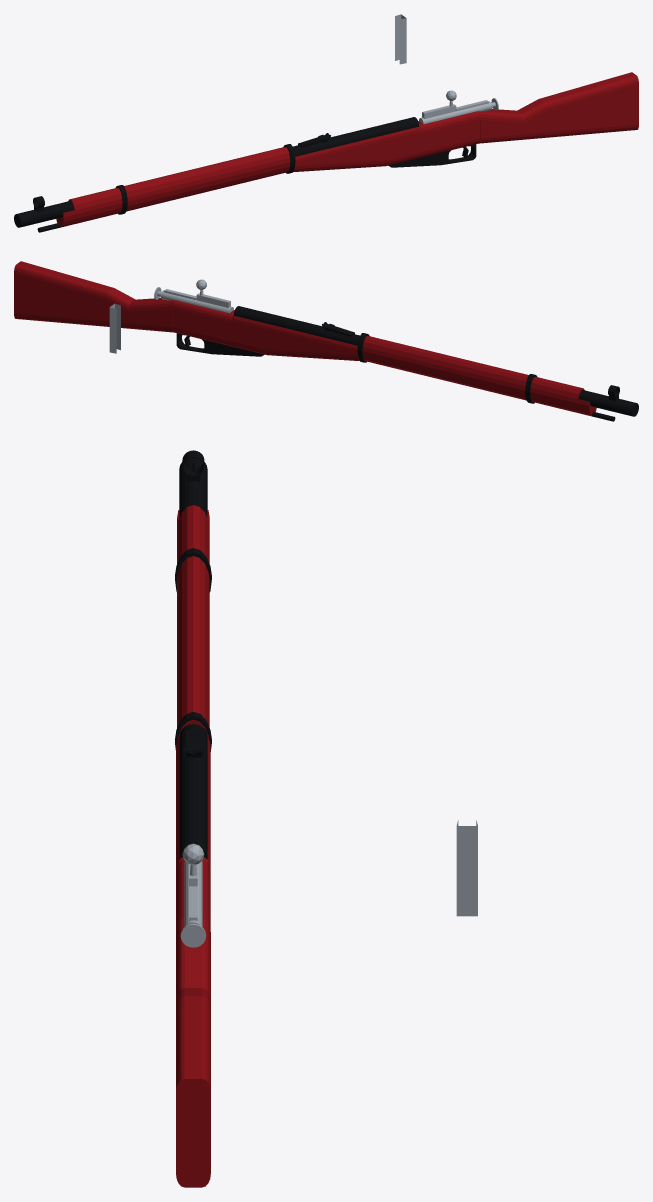
Rendered from mosin-nagant0049.obj.
3 renders of one model, top to bottom at view 1: azimuth 30°, elevation 25°; view 2: azimuth 150°, elevation 25°; view 3: azimuth 270°, elevation 25°, orthographic. The views are drawn at different scales.
Visible parts, largest first — view 1: stock, barrel, triggerGuard, clip, bolt; view 2: stock, barrel, triggerGuard, clip, bolt, boltLocker; view 3: stock, barrel, clip.
Part boxes in pixels (left/top/right/bottom): stock: left=56, top=72, right=638, bottom=227; barrel: left=14, top=117, right=418, bottom=227; triggerGuard: left=388, top=144, right=476, bottom=167; clip: left=395, top=14, right=406, bottom=64; bolt: left=419, top=101, right=492, bottom=124; stock: left=14, top=261, right=596, bottom=416; barrel: left=234, top=306, right=638, bottom=416; triggerGuard: left=176, top=333, right=264, bottom=356; clip: left=109, top=303, right=120, bottom=353; bolt: left=160, top=290, right=233, bottom=313; boltLocker: left=196, top=293, right=230, bottom=307; stock: left=176, top=505, right=210, bottom=1187; barrel: left=179, top=458, right=207, bottom=859; clip: left=456, top=820, right=477, bottom=916.
Size of the model in its own units: 16.32 by 2.57 by 3.47.
